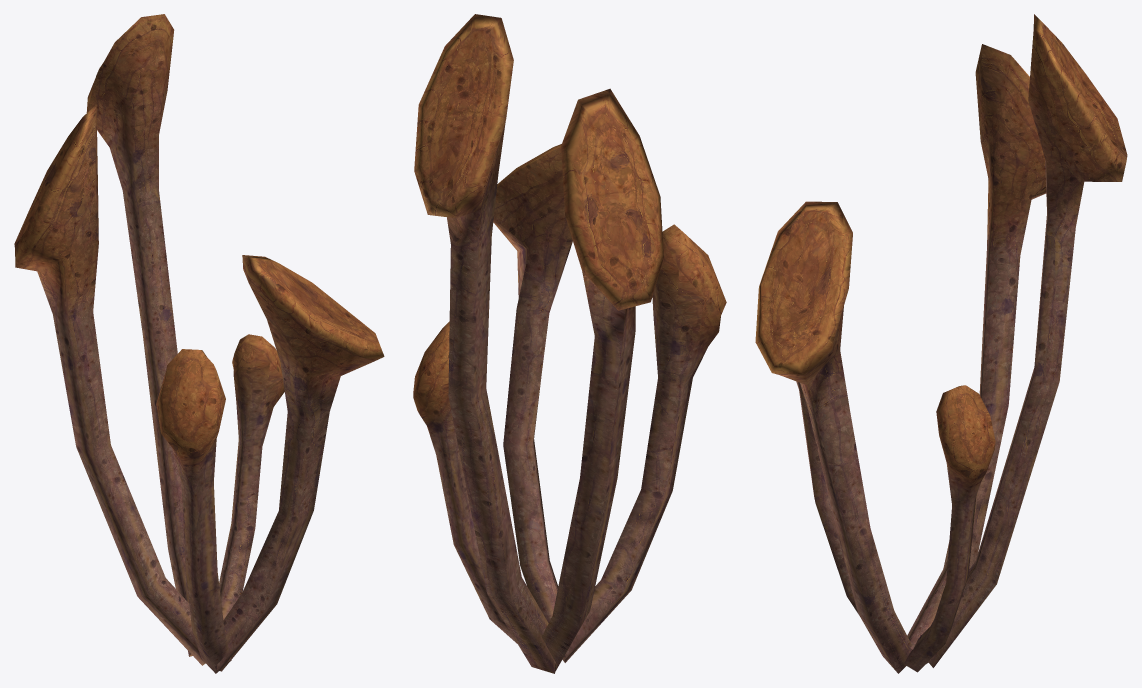
Rendered from Shroom_Plant2_4_L1.fbx.
3 renders of one model, left to right at view 1: azimuth 30°, elevation 25°; view 2: azimuth 150°, elevation 25°; view 3: azimuth 270°, elevation 25°, orthographic. The views are drawn at different scales.
Parts seen in each view (by area): view 1: polySurface295; view 2: polySurface295; view 3: polySurface295.
Part boxes in pixels (left/top/right/bottom): polySurface295: left=14, top=14, right=384, bottom=673; polySurface295: left=413, top=14, right=726, bottom=673; polySurface295: left=755, top=14, right=1127, bottom=673.
Bounding box in the file's own units: 48.5 × 111 × 57.59.
